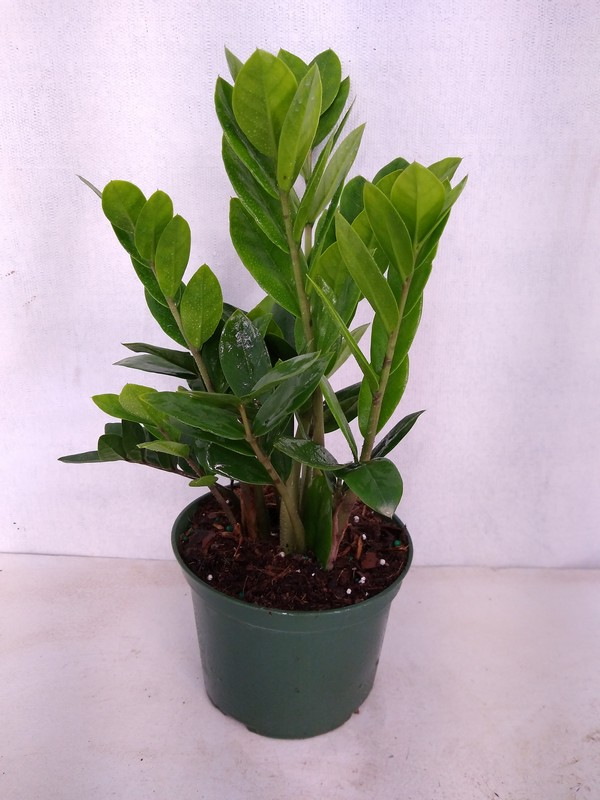plant: (55, 42, 473, 580)
pot: (169, 483, 418, 742)
